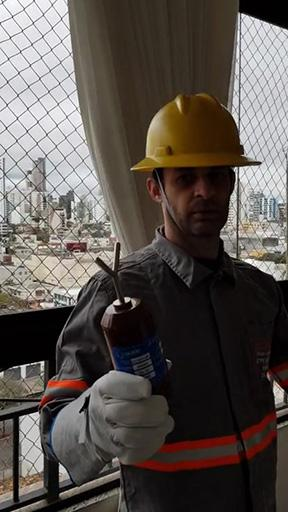Detector_Tensao_Contato: (92, 240, 163, 407)
